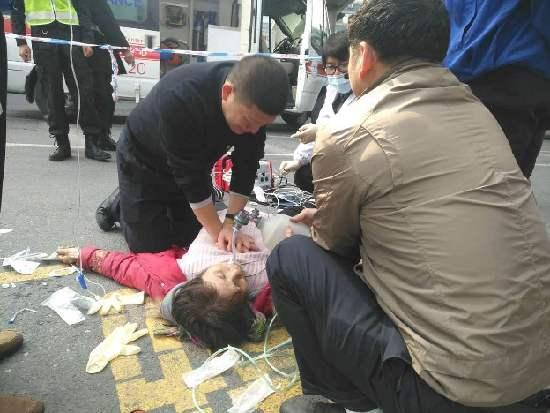Fall-Detected: (37, 183, 336, 357)
